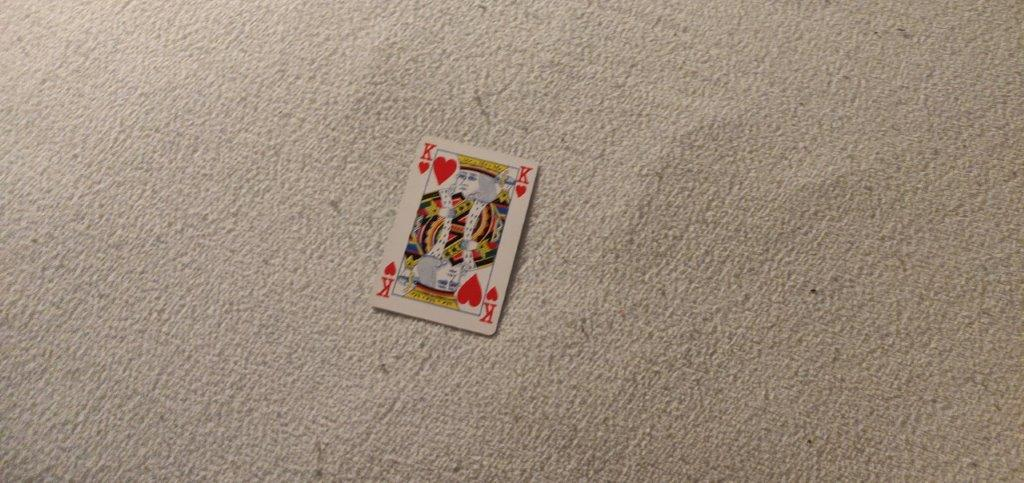KH: (415, 140, 438, 180), (512, 162, 534, 201)
